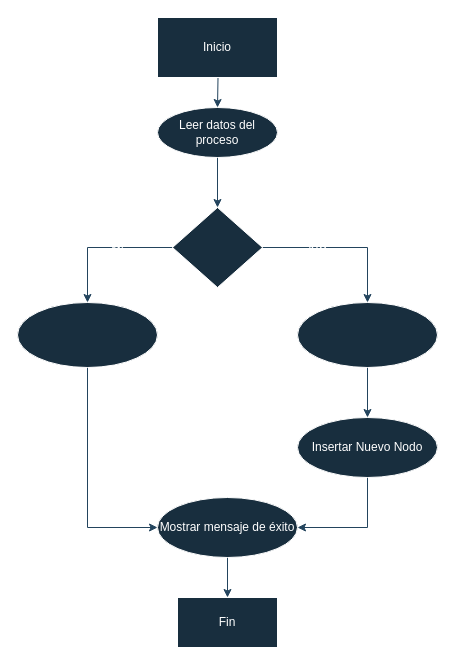
The diagram is 455 pixels wide and 665 high, and some of its shapes have lost their labels. The shapes that lost their labels are listed below. From the top down, each one's centre as x and y in pixels, then its label:
At [217,247]: "¿Está la lista vacía?".
At [87,335]: "Inserta como primer nodo".
At [367,335]: "Recorrer lista hasta el último elemento".
